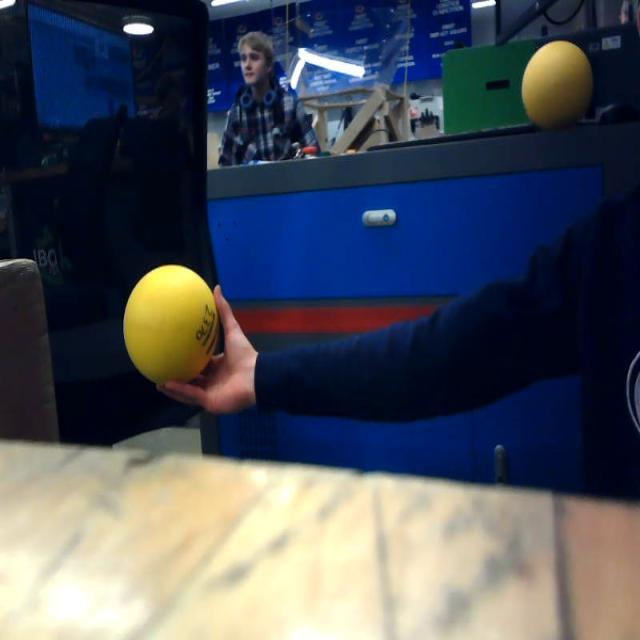Fuel: (123, 265, 220, 387), (522, 40, 593, 132)
